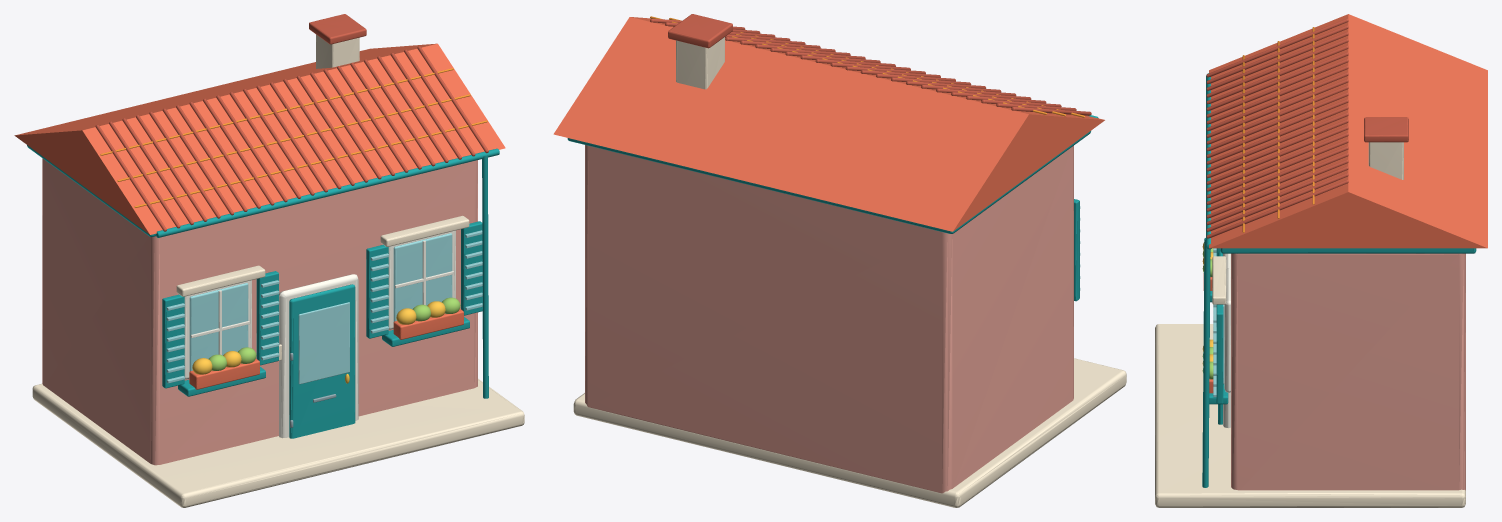
The model's file is Home.fbx.
The picture shows the model from 3 angles, left to right: view 1: azimuth 30°, elevation 25°; view 2: azimuth 150°, elevation 25°; view 3: azimuth 270°, elevation 25°; orthographic projection. The views are drawn at different scales.
Visible parts, largest first — view 1: GEO-Body; view 2: GEO-Body; view 3: GEO-Body.
Part boxes in pixels (bbox=[...]): GEO-Body: bbox=[14, 14, 524, 507]; GEO-Body: bbox=[553, 14, 1126, 507]; GEO-Body: bbox=[1155, 14, 1487, 507].
Bounding box in the file's own units: 6.1 × 5.52 × 4.82.
